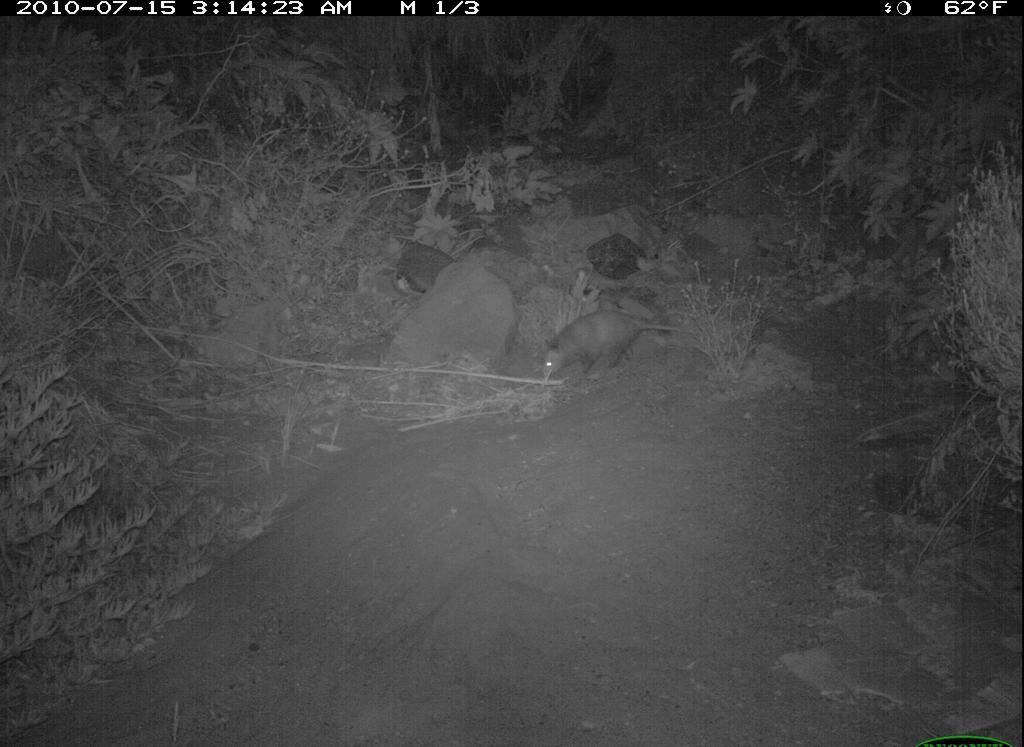opossum: (522, 303, 721, 398)
